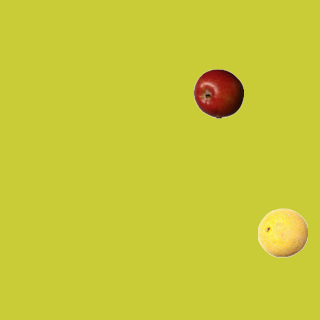Apple Braeburn: (193, 68, 243, 118)
Cantaloupe 1: (257, 207, 307, 257)
